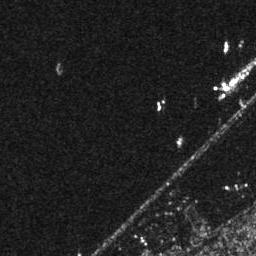ship: (220, 81, 230, 92), (228, 77, 239, 87), (222, 39, 229, 53), (218, 92, 226, 100), (156, 101, 162, 111), (177, 137, 183, 146)
